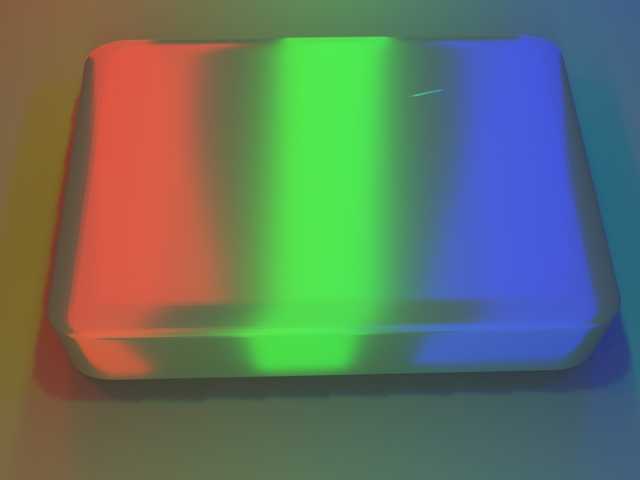scratch: (381, 44, 501, 107)
